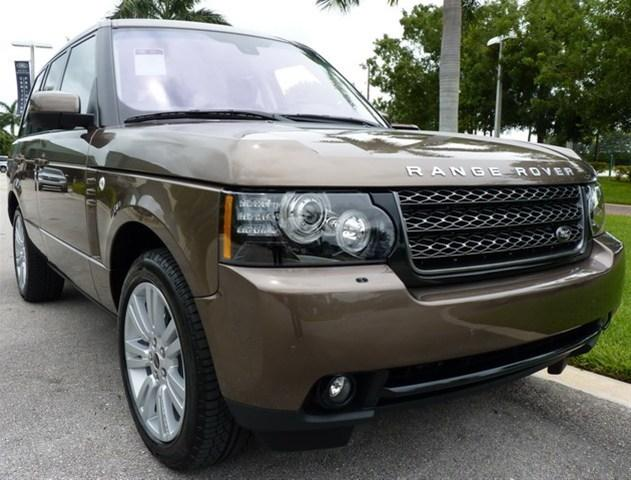range rover: (400, 155, 585, 189)
